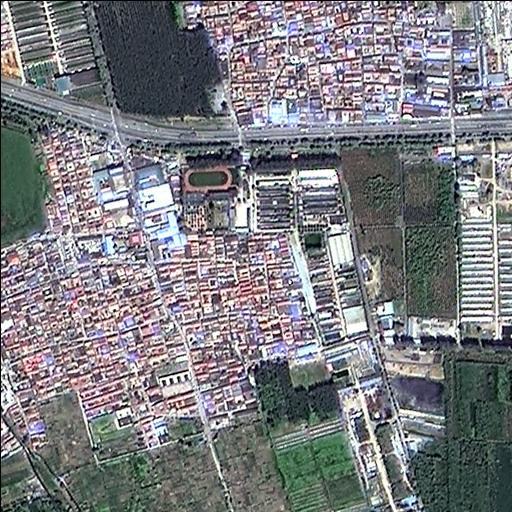school: (179, 156, 240, 198)
